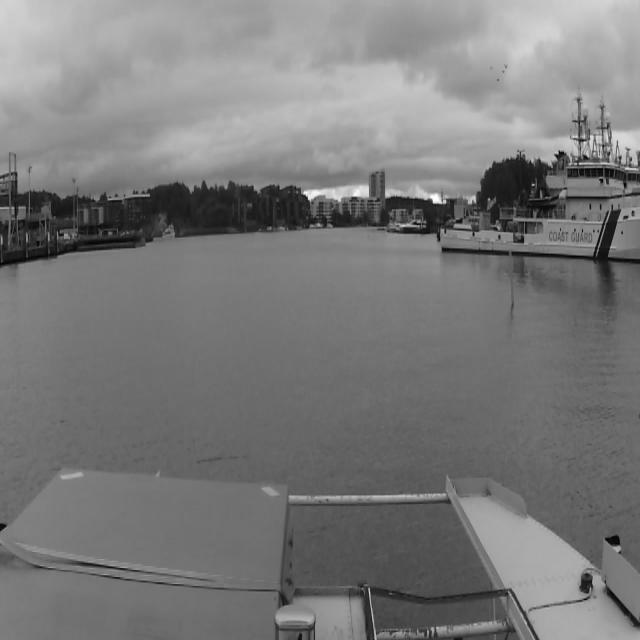buoy: (509, 257, 515, 321)
ship: (438, 88, 639, 264)
